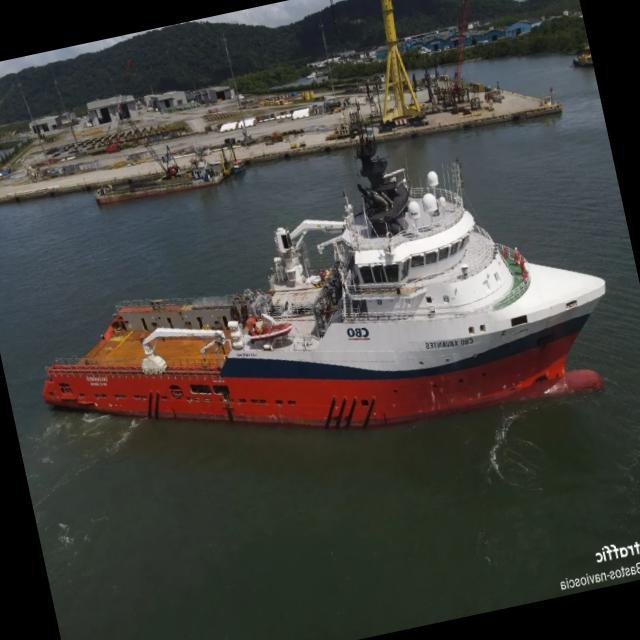Offshore: (43, 134, 605, 427)
